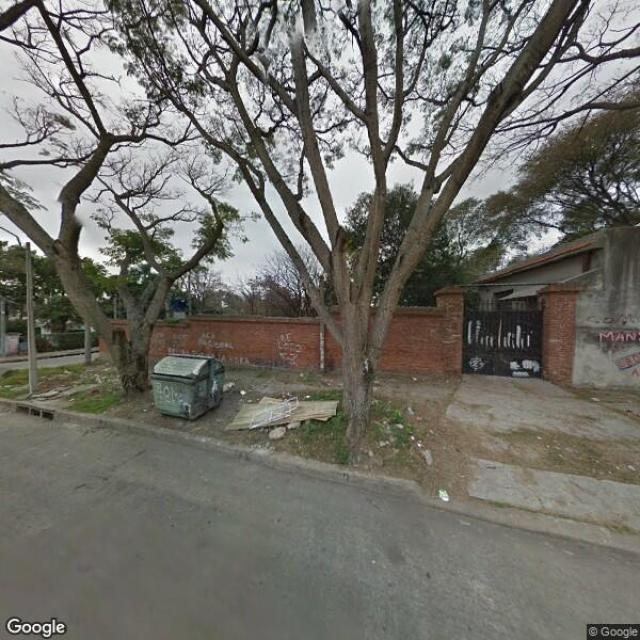garbage container: (142, 344, 236, 424)
